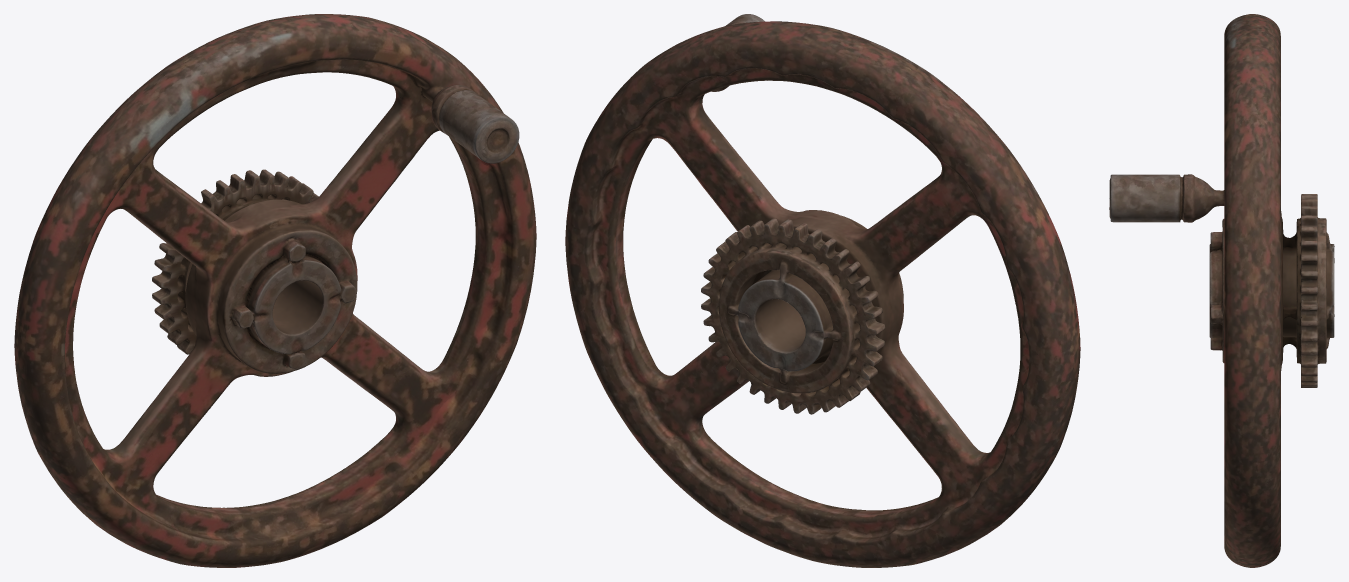
The model's file is manivela.glb.
3 views of the same model, side by side, from view 1: azimuth 30°, elevation 25°; view 2: azimuth 150°, elevation 25°; view 3: azimuth 270°, elevation 25° (orthographic). The views are drawn at different scales.
Bounding box in the file's own units: 1.9 × 1.9 × 0.7703.
1 material, 1 textured.
